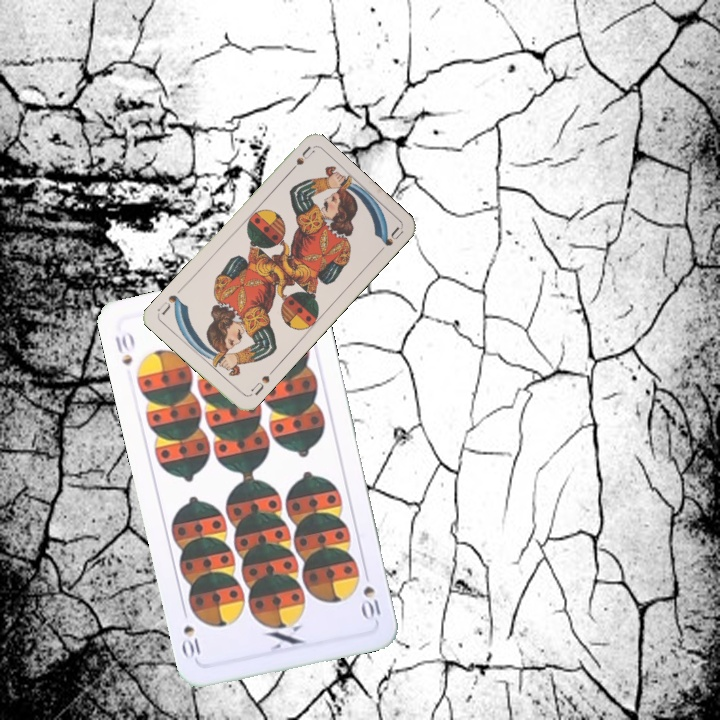S10: (111, 328, 137, 368), (359, 582, 383, 624)
SU: (283, 143, 316, 178), (245, 365, 276, 399)
